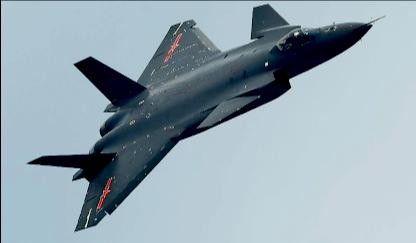F4: (24, 2, 384, 231)
